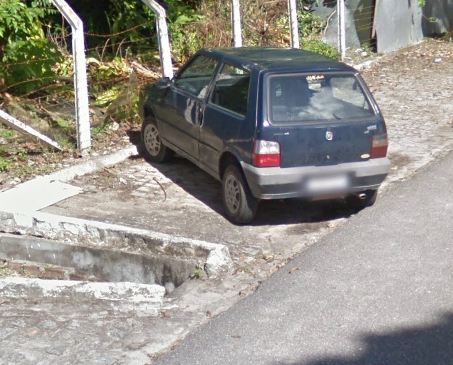car: (134, 42, 395, 230)
